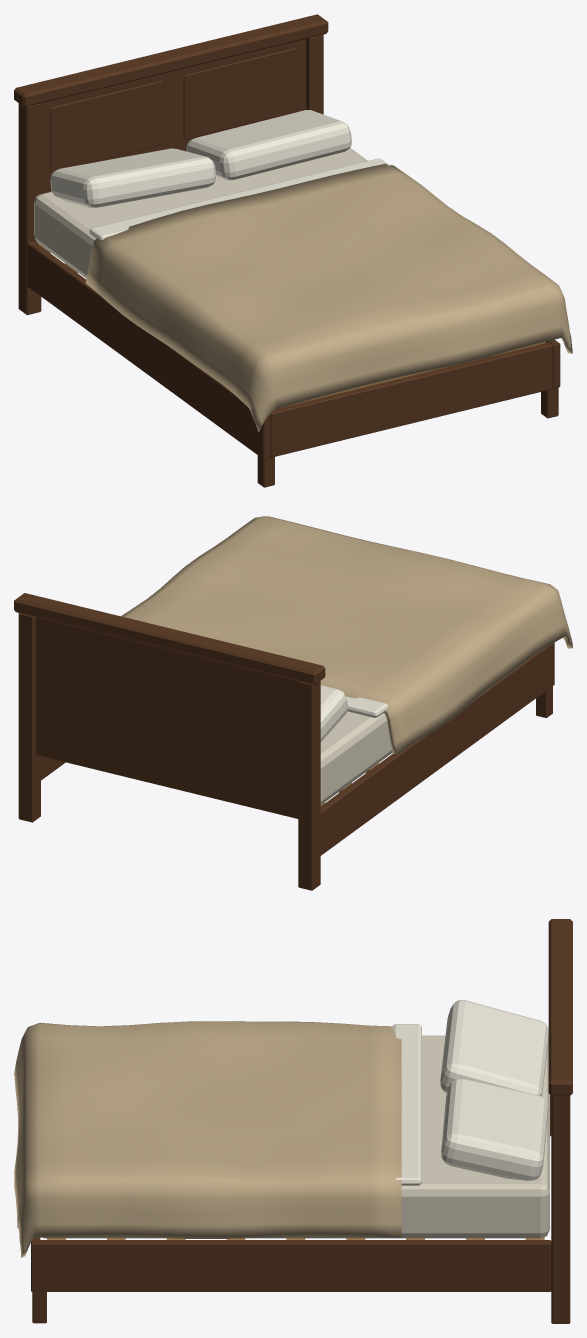
File: CamaDeCasal.fbx
3 renders of one model, top to bottom at view 1: azimuth 30°, elevation 25°; view 2: azimuth 150°, elevation 25°; view 3: azimuth 270°, elevation 25°, orthographic. The views are drawn at different scales.
Parts seen in each view (by area): view 1: CamaDeCasal; view 2: CamaDeCasal; view 3: CamaDeCasal.
Boxes of the visible parts, x1,y1,x2,y2 form: CamaDeCasal: (14, 14, 572, 487); CamaDeCasal: (14, 516, 572, 890); CamaDeCasal: (14, 919, 572, 1323).
Bounding box in the file's own units: 1.53 × 1 × 2.07.
